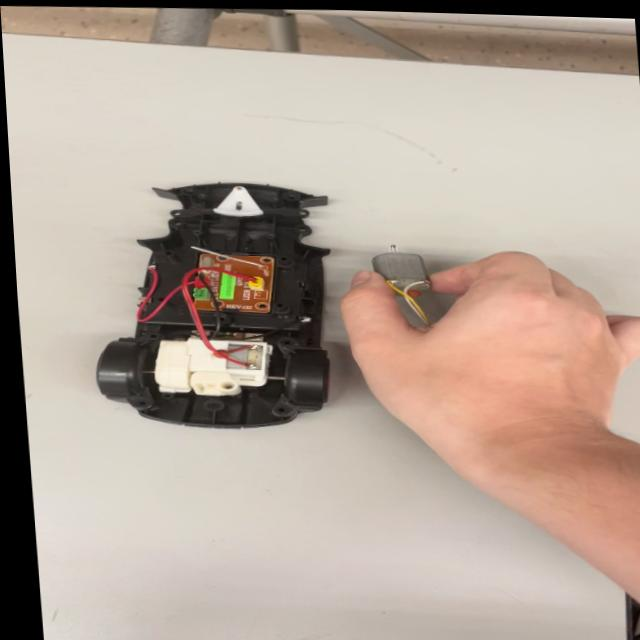Chassis: (100, 164, 336, 430)
motor: (366, 237, 444, 303)
